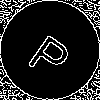P: (25, 25, 79, 82)
